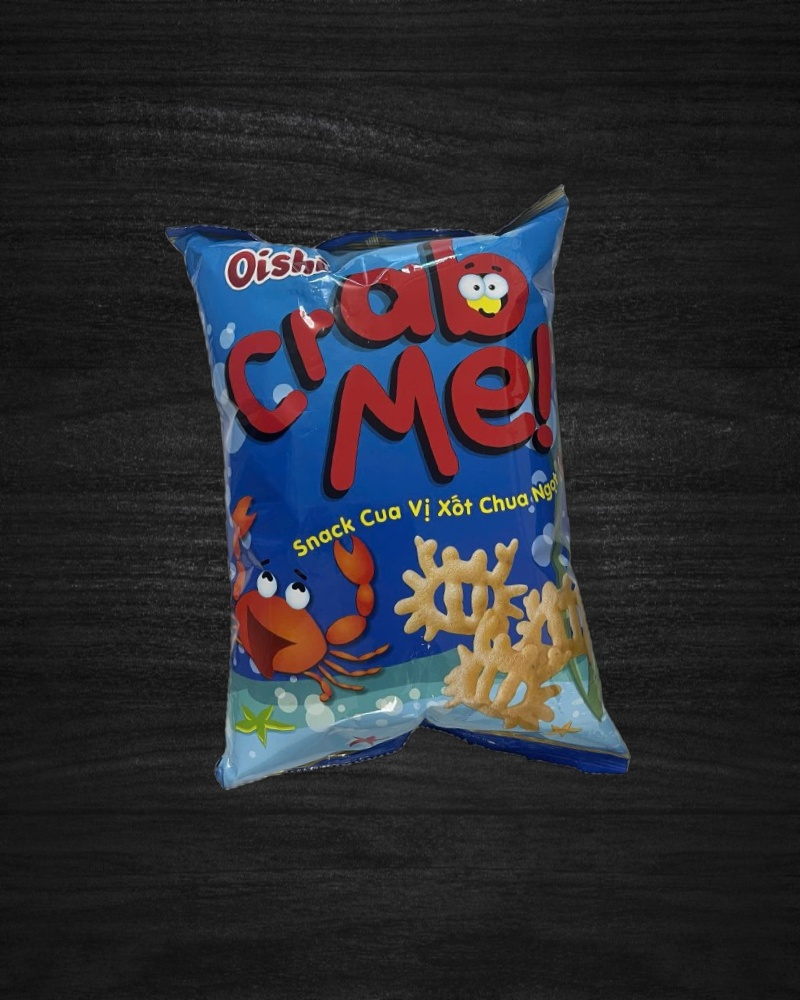Snack cua: (164, 183, 632, 804)
